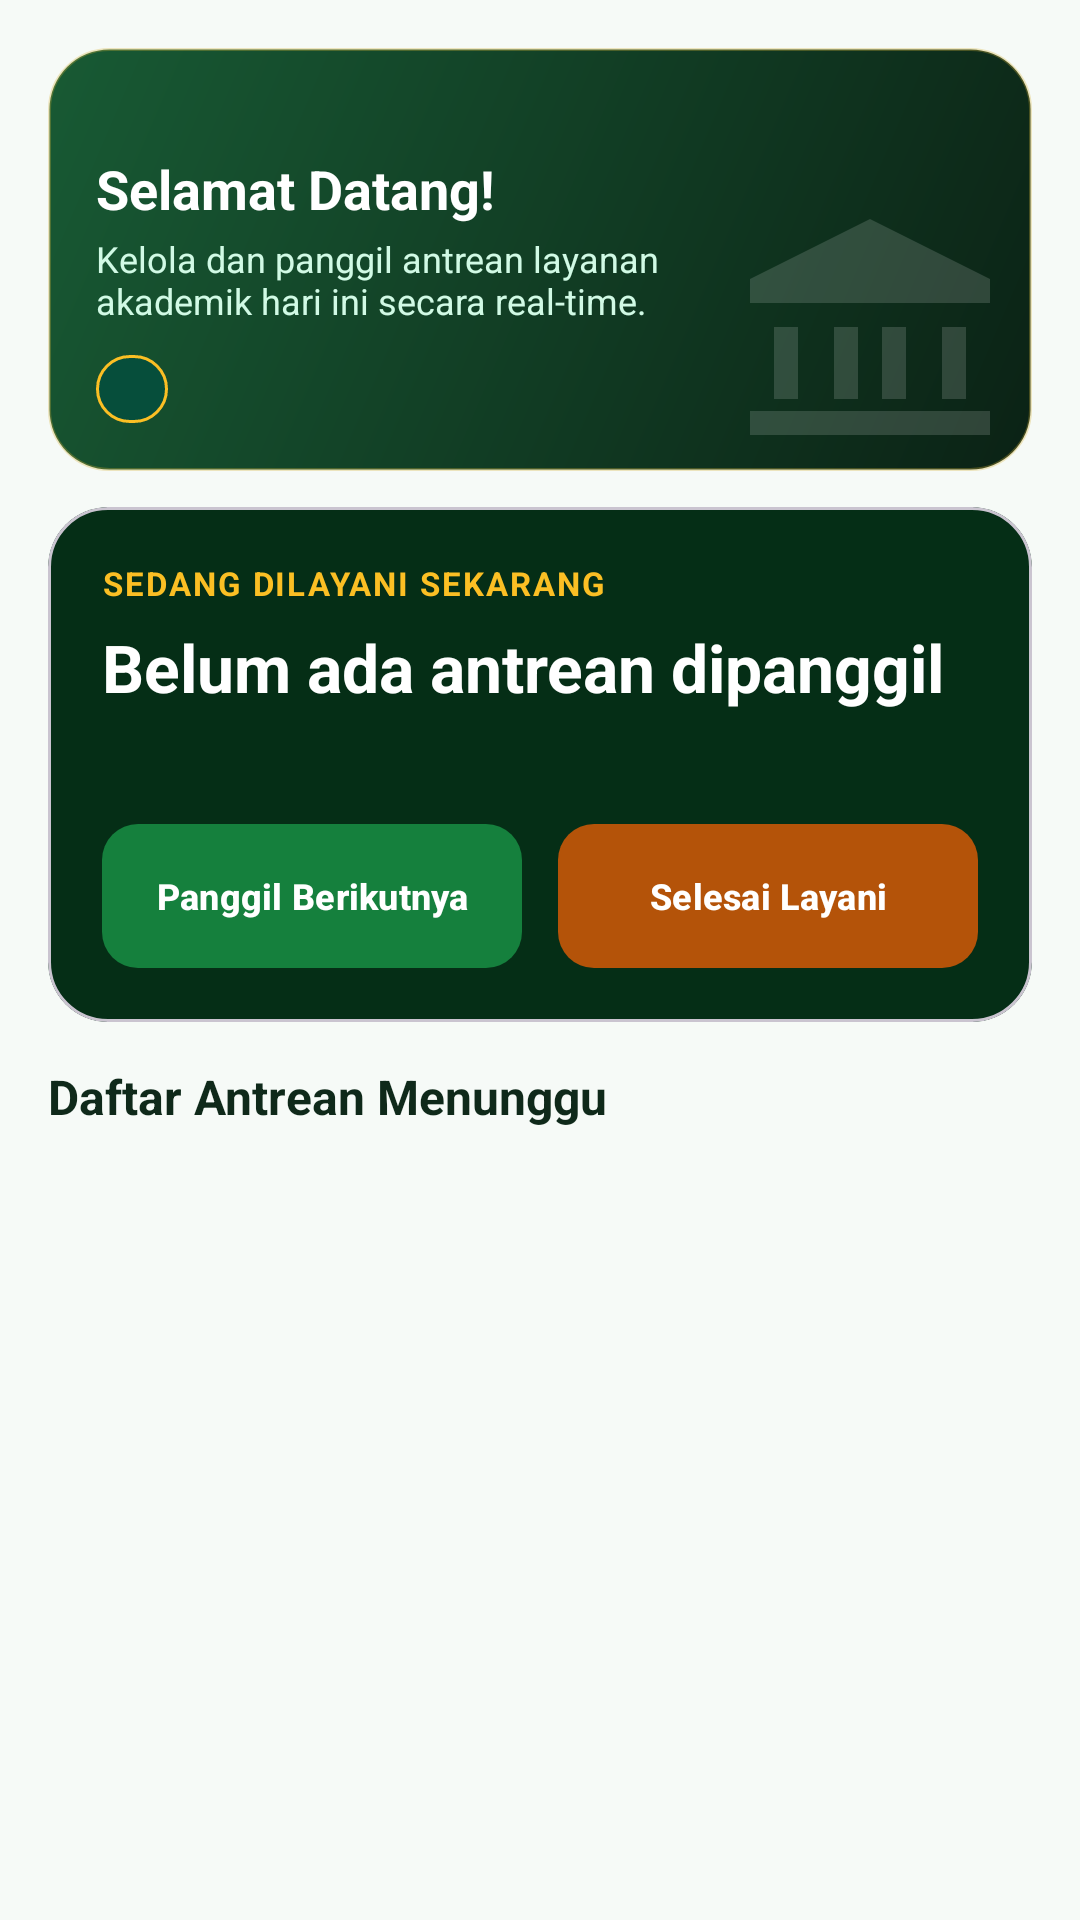

Where to tap for icons on this 1080 x 1920 app screen, as (x,y):
Ilustrasi Gedung Kampus: (870,327)
